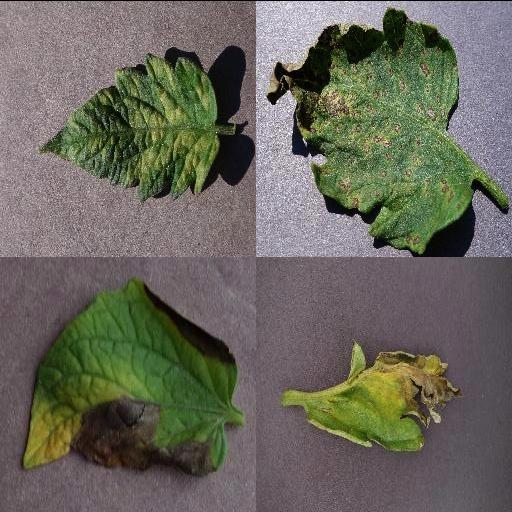Early Blight: (21, 278, 237, 478)
Late Blight: (300, 340, 462, 450)
Leaf Mold: (37, 51, 221, 202)
Septoria: (266, 8, 476, 250)
